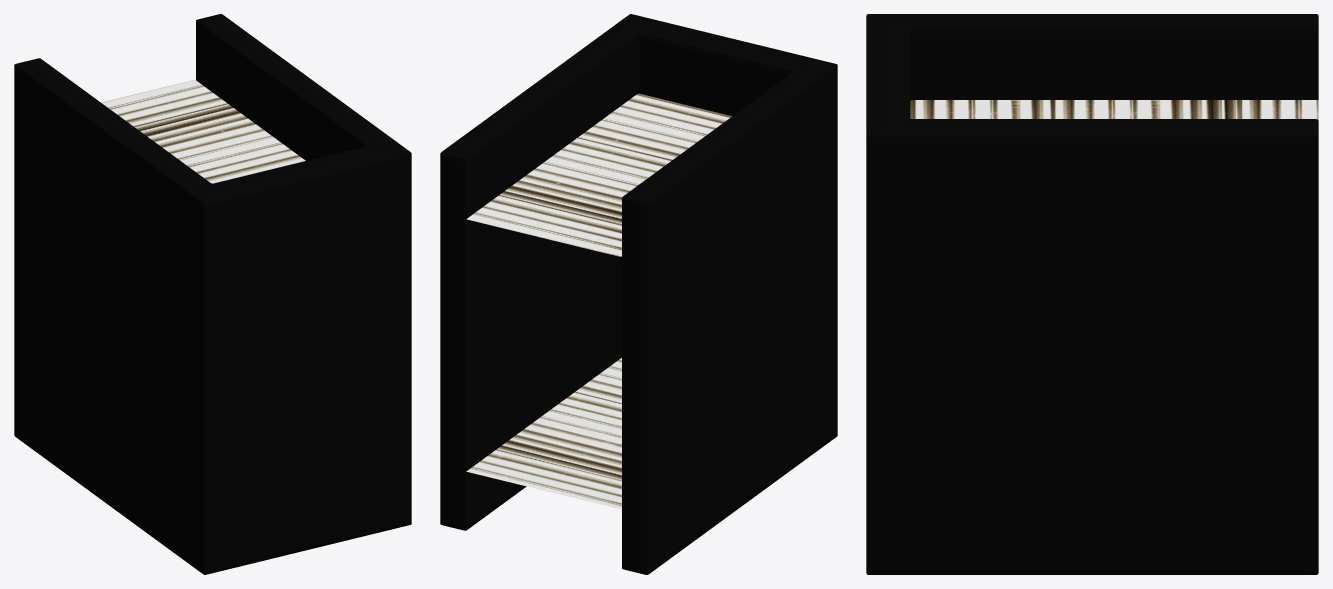
File: SM_WallLight_006.FBX
The picture shows the model from 3 angles, left to right: view 1: azimuth 30°, elevation 25°; view 2: azimuth 150°, elevation 25°; view 3: azimuth 270°, elevation 25°; orthographic projection. The views are drawn at different scales.
Visible parts, largest first — view 1: SM_WallLight_006; view 2: SM_WallLight_006; view 3: SM_WallLight_006.
Part boxes in pixels (<box>): SM_WallLight_006: <box>14,14,411,574</box>; SM_WallLight_006: <box>440,14,837,574</box>; SM_WallLight_006: <box>866,14,1318,574</box>.
Size of the model in its own units: 8.19 by 12.99 by 14.
